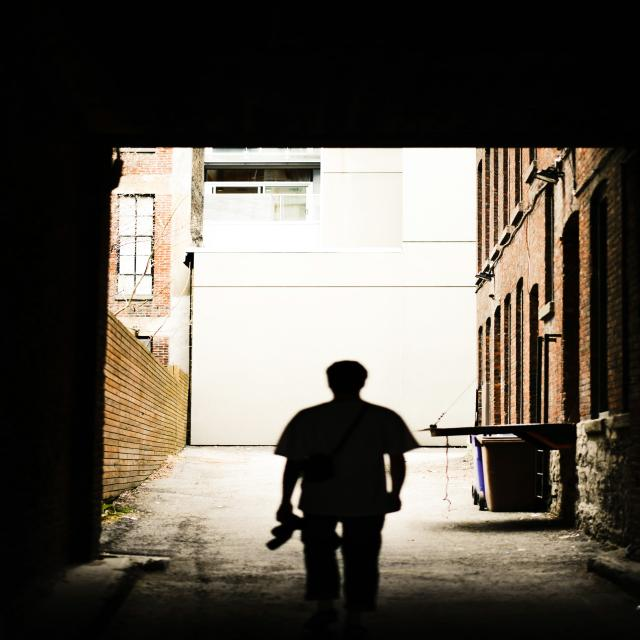adult: (264, 356, 412, 634)
